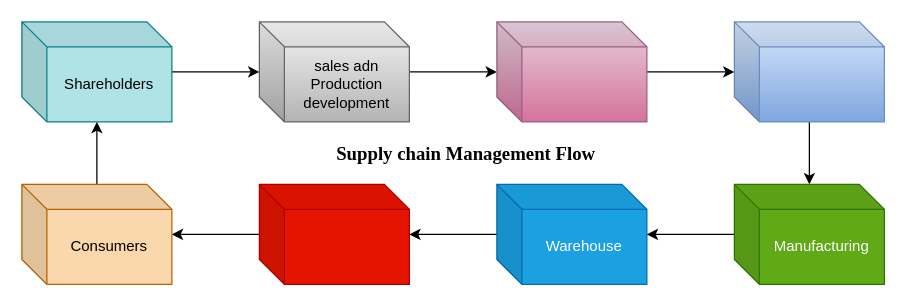
This 906x306 diagram has some shape labels left out. The shapes that lost their labels are listed below. From the top down, each one's centre as x and y in pixels, then its label:
pixel 571 71: Procurement
pixel 808 71: Suppliers
pixel 333 233: Logistics
